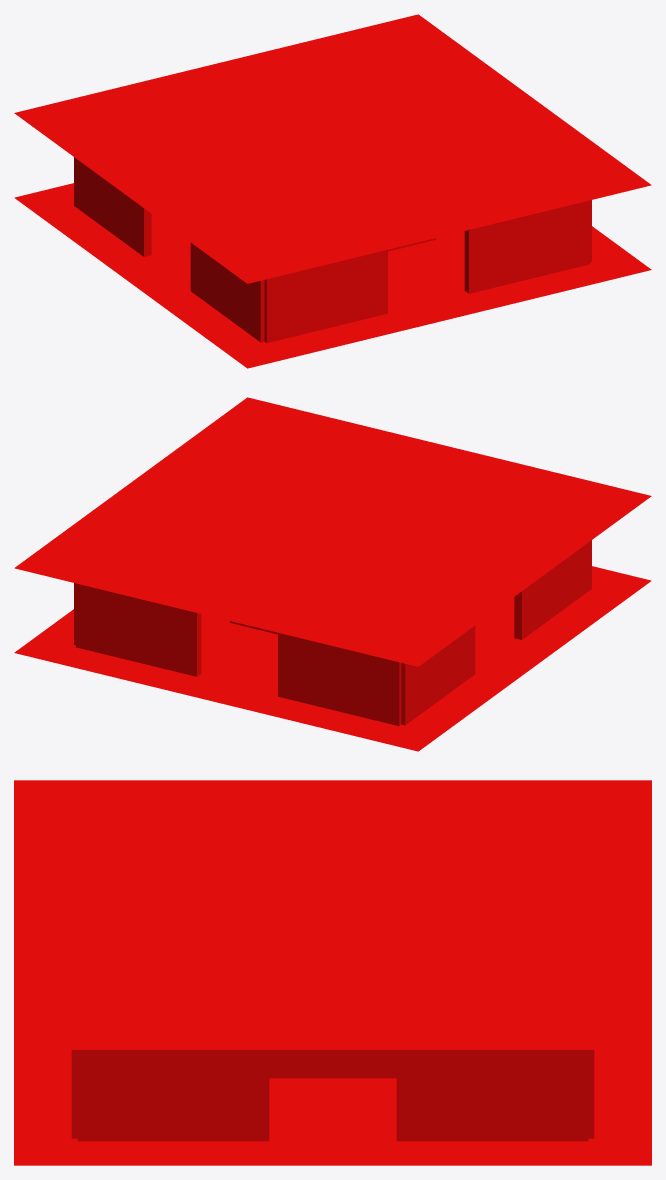
File: cave_room_i.dae
3 views of the same model, one above another, from view 1: azimuth 30°, elevation 25°; view 2: azimuth 150°, elevation 25°; view 3: azimuth 270°, elevation 25° (orthographic). The views are drawn at different scales.
Visible parts, largest first — view 1: Plane.001, Plane, Cube.009, Cube.010, Cube.003, Cube.004, Cube.006, Cube.007, Cube.001; view 2: Plane.001, Plane, Cube.006, Cube.007, Cube.004, Cube.003, Cube.009, Cube.010, Cube; view 3: Plane.001, Plane, Cube.001, Cube, Cube.012, Cube.007, Cube.010, Cube.004, Cube.003, Cube.009, Cube.006, Cube.002 (+3 smaller).
Boxes of the visible parts, box(x1,y1,x2,y2) form: Plane.001: box(14, 14, 651, 283); Plane: box(14, 183, 651, 368); Cube.009: box(263, 226, 387, 342); Cube.010: box(464, 191, 590, 293); Cube.003: box(190, 205, 265, 342); Cube.004: box(74, 120, 151, 256); Cube.006: box(76, 89, 200, 121); Cube.007: box(278, 40, 402, 72); Cube.001: box(398, 40, 474, 93); Plane.001: box(14, 397, 651, 666); Plane: box(14, 566, 651, 751); Cube.006: box(278, 609, 402, 725); Cube.007: box(75, 560, 201, 676); Cube.004: box(400, 588, 475, 725); Cube.003: box(514, 503, 591, 639); Cube.009: box(465, 472, 589, 504); Cube.010: box(263, 423, 387, 455); Cube: box(191, 423, 267, 476); Plane.001: box(14, 780, 651, 1049); Plane: box(14, 1050, 651, 1165); Cube.001: box(396, 1020, 588, 1141); Cube: box(77, 1020, 269, 1141); Cube.012: box(269, 1051, 396, 1078); Cube.007: box(582, 942, 594, 1138); Cube.010: box(71, 942, 83, 1138); Cube.004: box(396, 804, 588, 809); Cube.003: box(77, 804, 269, 809); Cube.009: box(71, 807, 83, 888); Cube.006: box(582, 807, 594, 888); Cube.002: box(269, 1020, 396, 1050).
Size of the model in its own units: 1280 by 1280 by 256.
